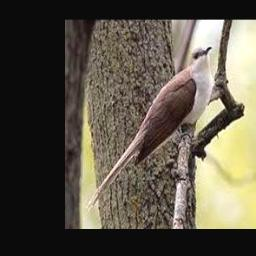Cuckoo: (85, 46, 213, 212)
